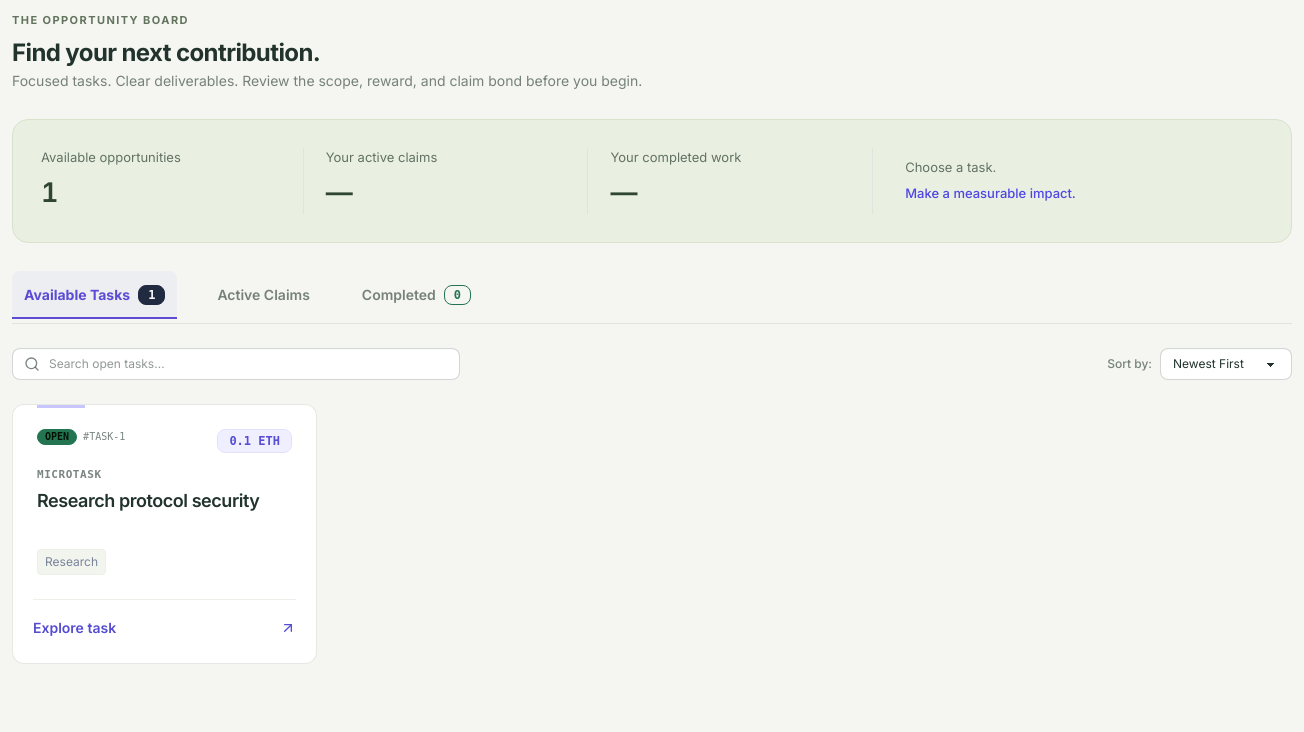
Marketplace navigation and recovery › restores opportunities when a search is cleared
Type "no-match" into the search field.
click(236, 364); type("no-match")  # box [12,348,460,380]
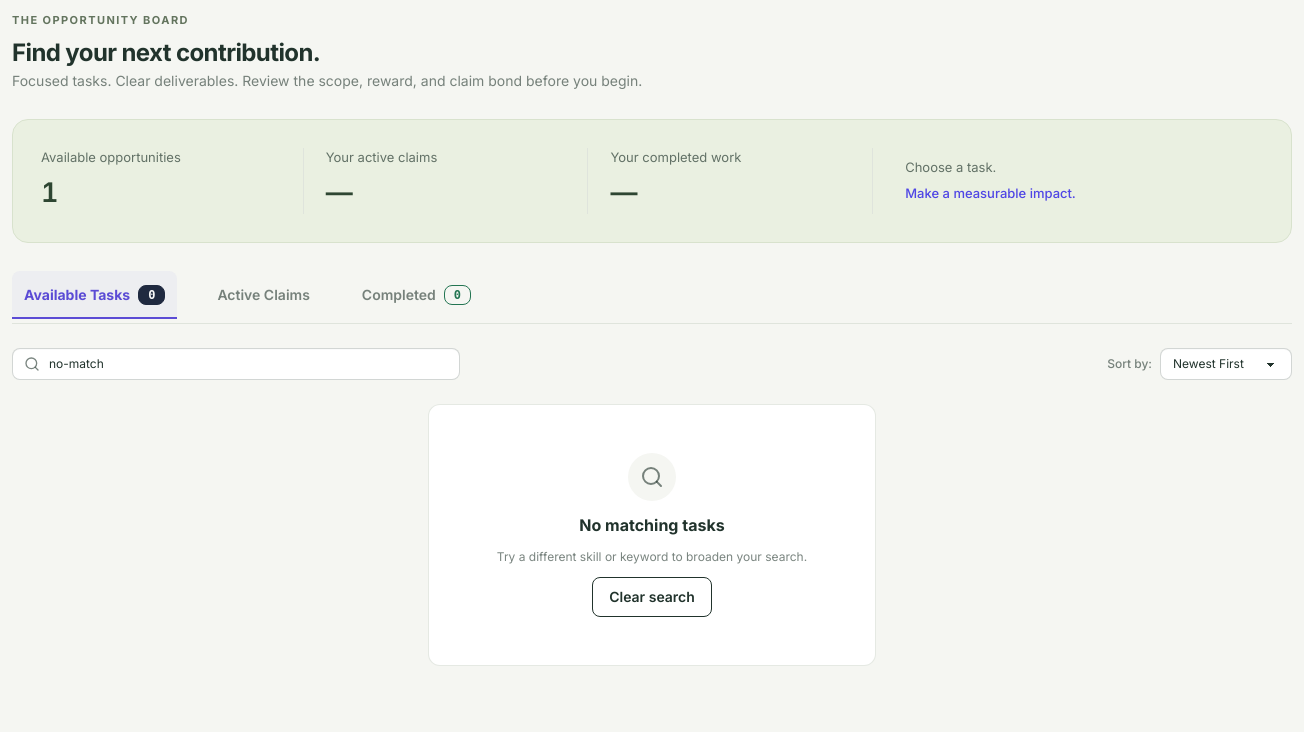
Check: the heading "No matching tasks" is shown, box [579,514,725,534]
Click the button "Clear search".
click(652, 596)  # box [592,576,712,616]
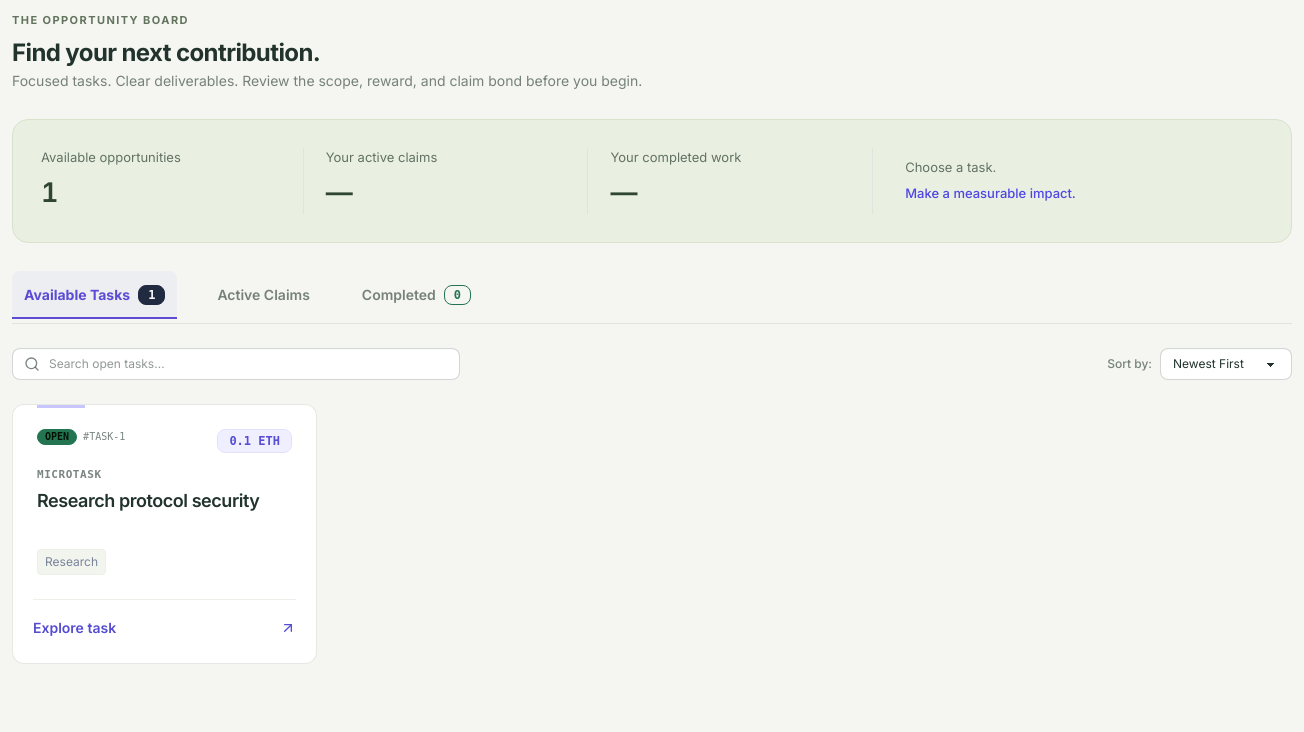
Check: the heading "Research protocol security" is shown, box [37,490,259,511]
